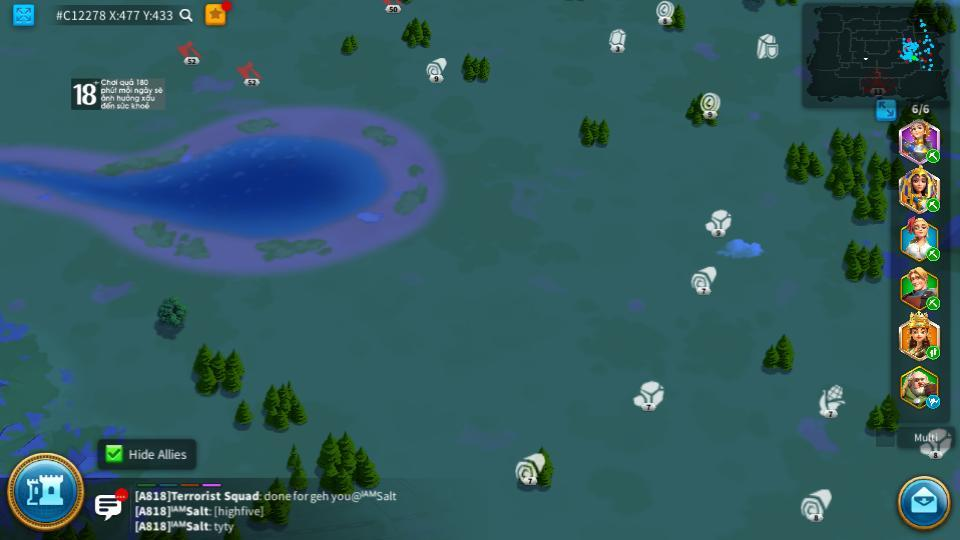gem-z-out: (608, 27, 627, 51)
march_farming: (923, 197, 940, 212), (925, 149, 941, 162), (925, 248, 941, 261)
march_idle: (925, 396, 942, 408)
march_marching: (925, 297, 942, 310), (925, 347, 941, 359)
